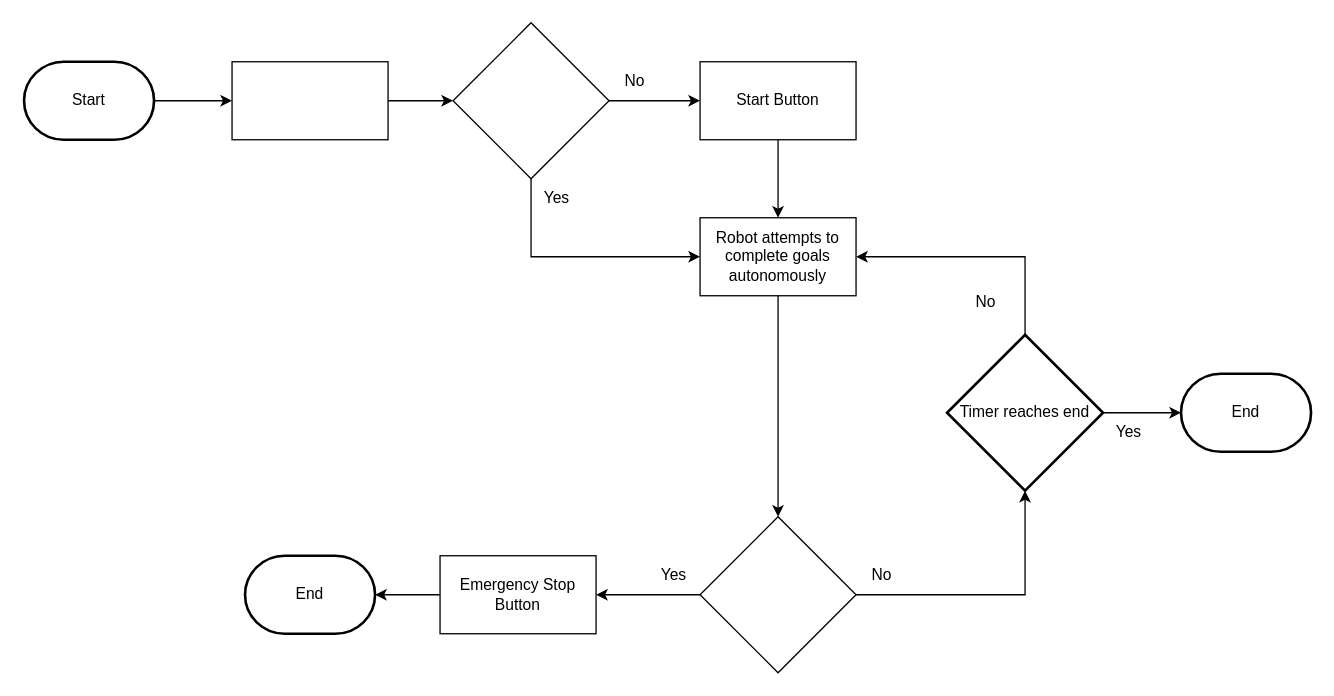
This 1334x696 diagram has some shape labels left out. The shapes that lost their labels are listed below. From the top down, each one's centre as x and y in pixels, then its label:
(x=309, y=100): On Button
(x=530, y=100): Robot actives from Start LED
(x=777, y=594): Robot needs to be stopped
